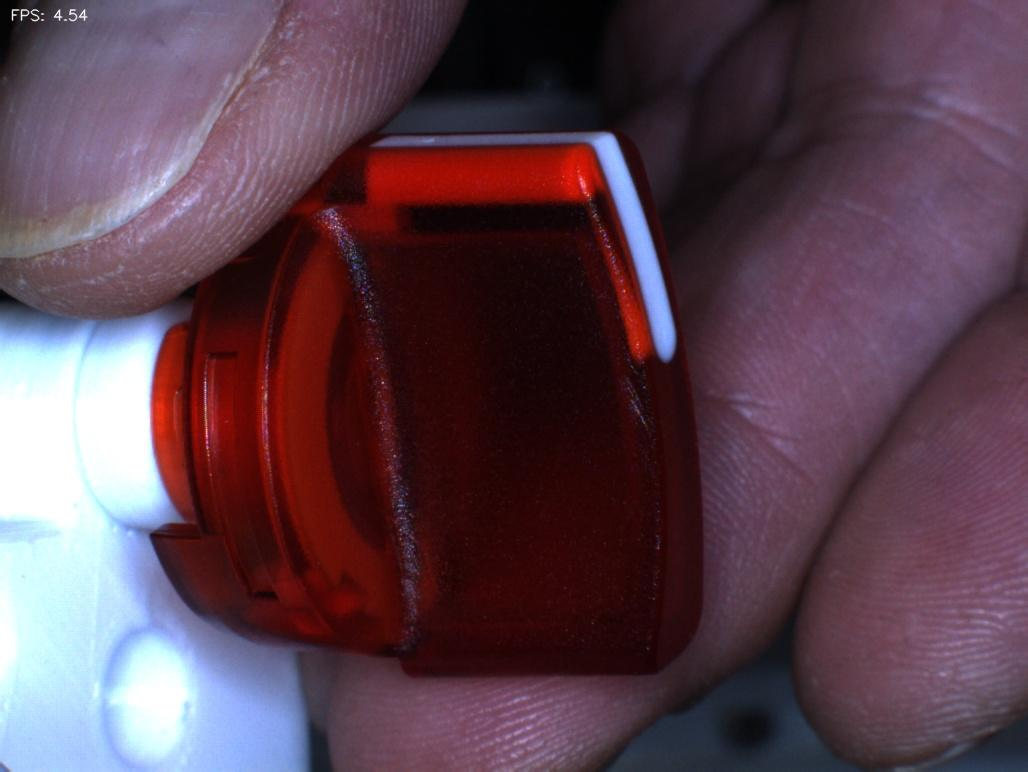Givrage: (599, 348, 667, 462)
